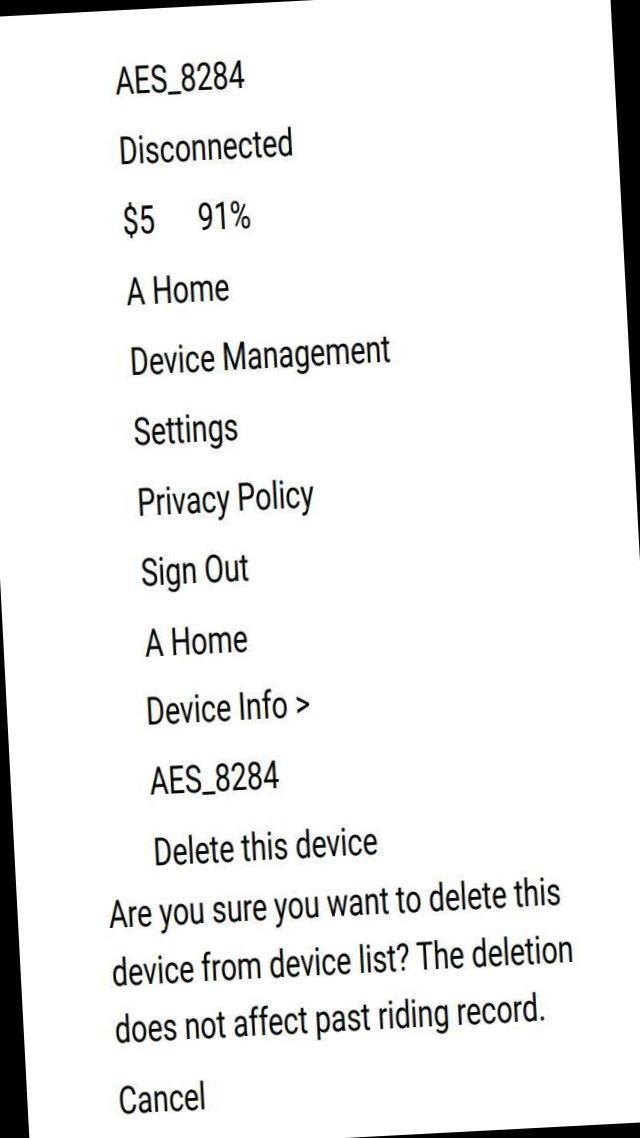Text: (106, 928, 585, 992), (106, 986, 561, 1052), (104, 876, 571, 937), (126, 330, 410, 387), (149, 820, 386, 870), (128, 474, 322, 530), (141, 682, 356, 730), (110, 122, 300, 170), (138, 752, 288, 803), (109, 53, 252, 97), (134, 548, 258, 591), (128, 409, 246, 452), (120, 268, 238, 310), (140, 624, 258, 664), (114, 1076, 217, 1120), (191, 194, 257, 237), (115, 194, 162, 238)
